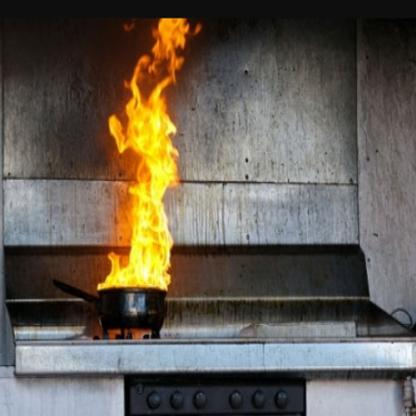fire: (92, 19, 205, 294)
